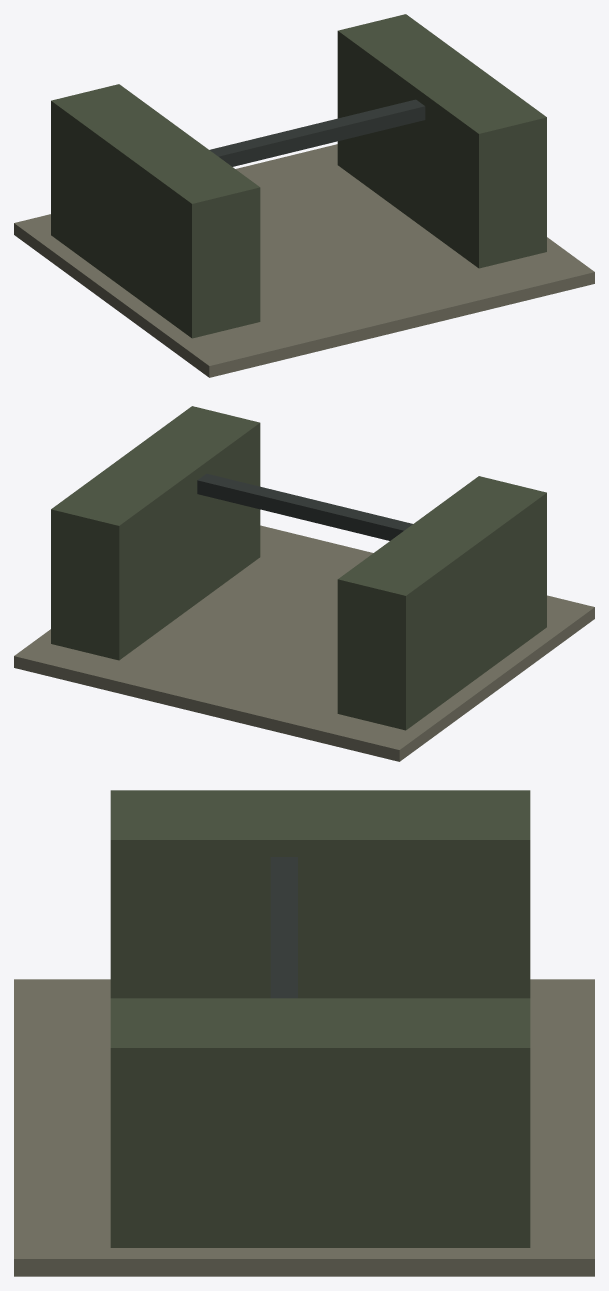
File: Bastion_RepairBay_LOD1.obj
3 renders of one model, top to bottom at view 1: azimuth 30°, elevation 25°; view 2: azimuth 150°, elevation 25°; view 3: azimuth 270°, elevation 25°, orthographic. The views are drawn at different scales.
Visible parts, largest first — view 1: Bastion_RepairBay_LOD1; view 2: Bastion_RepairBay_LOD1; view 3: Bastion_RepairBay_LOD1.
Boxes of the visible parts, left/top/right/bottom form: Bastion_RepairBay_LOD1: left=14, top=14, right=594, bottom=377; Bastion_RepairBay_LOD1: left=14, top=406, right=594, bottom=761; Bastion_RepairBay_LOD1: left=14, top=790, right=594, bottom=1276.
Size of the model in its own units: 8.2 by 2.97 by 7.2.
1 material, 1 textured.
